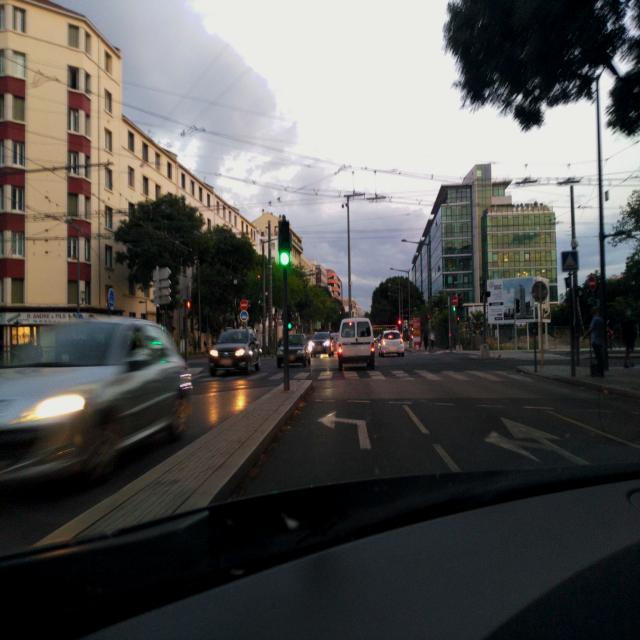car: (0, 311, 193, 490), (208, 328, 262, 377), (336, 317, 376, 371), (276, 332, 311, 368), (378, 330, 404, 357), (311, 331, 334, 357)
